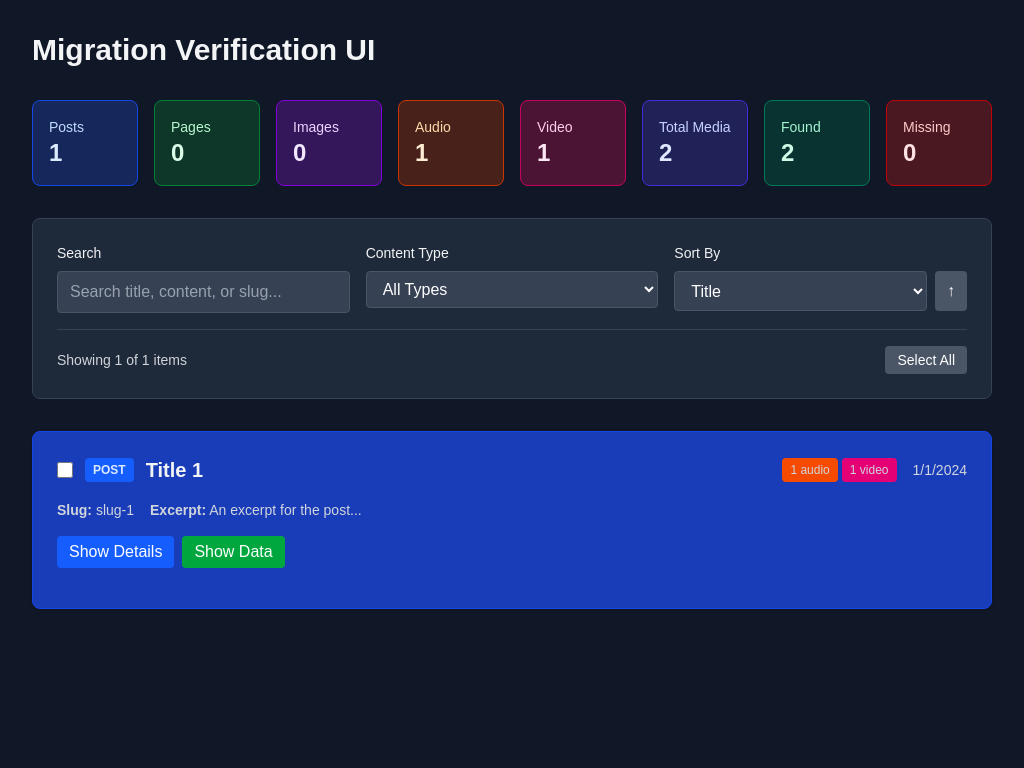
VerifyMigrationUI — details and data toggling › renders the audio/video badges in the media gallery for non-image media
Expected: the heading "Title 1" is shown, [146,459,203,481]
Click the button "Show Details".
click(116, 552)  # box [57,536,174,568]
(page scrolled)
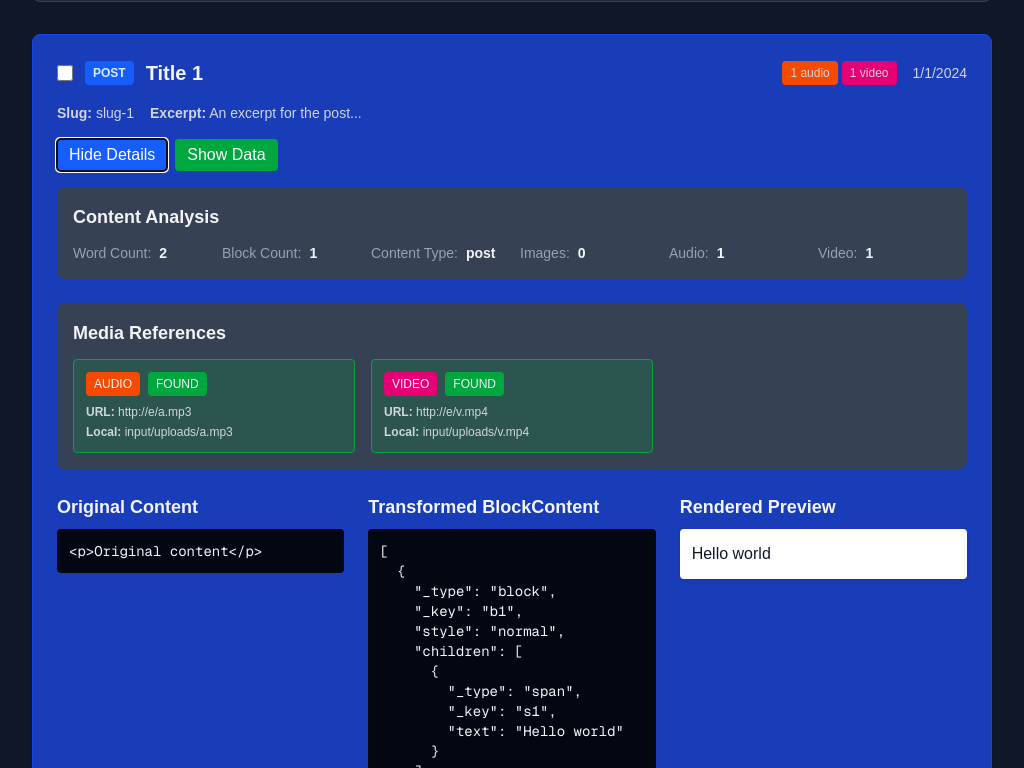
Expected: the text "AUDIO" is shown, [86,372,140,396]
Expected: the text "VIDEO" is shown, [384,372,437,396]
